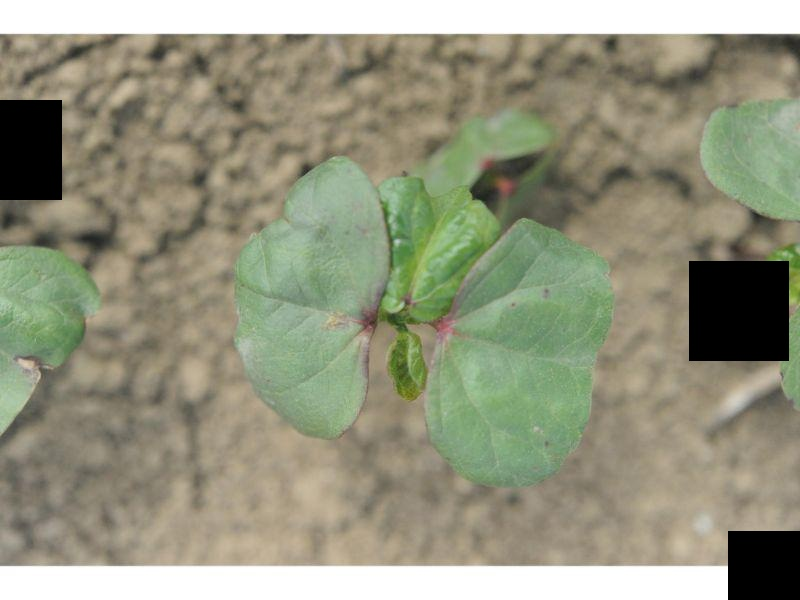cotton: (228, 149, 616, 495)
